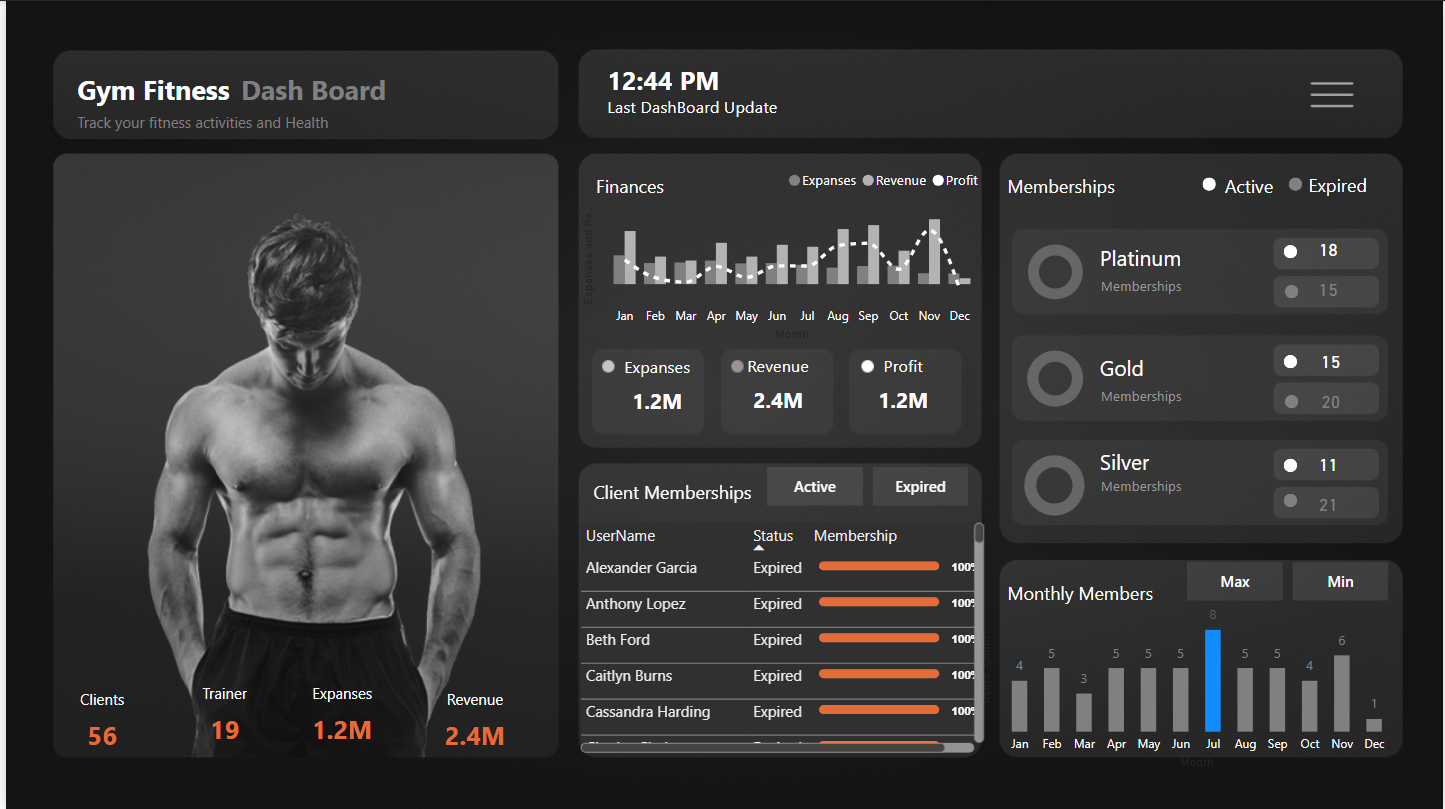

Layout of this report page (visuals, bound fields, positions):
{"tool":"powerbi","page":{"name":"OverAll","canvas":[1280,720],"ordinal":0},"visuals":[{"type":"cardVisual","fields":{"Data":["_Measures.Users_Count"]},"box":[30.7,595.1,109.2,79.8],"z":0},{"type":"cardVisual","fields":{"Data":["Count(Users.Trainer Name)"]},"box":[139.9,590.2,109.2,79.8],"z":1000},{"type":"cardVisual","fields":{"Data":["_Measures.Expanses"]},"box":[245.4,590.2,109.2,79.8],"z":2000},{"type":"cardVisual","fields":{"Data":["_Measures.Revenue"]},"box":[354.6,595.1,125.2,79.8],"z":3000},{"type":"cardVisual","fields":{"Data":["_Measures.Expanses"]},"box":[525.5,298.2,109.8,79.6],"z":4000},{"type":"cardVisual","fields":{"Data":["_Measures.Revenue"]},"box":[625.7,297.8,124.9,79.6],"z":5000},{"type":"cardVisual","fields":{"Data":["_Measures.Profit"]},"box":[736.9,297.8,124.9,79.6],"z":6000},{"type":"lineClusteredColumnComboChart","fields":{"Y":["_Measures.Expanses","_Measures.Revenue"],"Y2":["_Measures.Profit"],"Category":["Calender.Month"]},"box":[507.7,140,367.8,167.4],"z":7000},{"type":"shape","box":[525.6,140,181.1,46.7],"z":8000},{"type":"clusteredColumnChart","fields":{"Y":["_Measures.Users_Count"],"Category":["Calender.Month"]},"box":[861.3,527.1,380.9,162.2],"z":9000},{"type":"shape","box":[891.9,503.6,181.1,46.7],"z":10000},{"type":"advancedSlicerVisual","fields":{"Values":["Min_Max_Switch.type"]},"box":[1046.8,493.9,190.4,45.5],"z":11000},{"type":"tableEx","fields":{"Values":["Users.UserName","Users.Status","_Measures.SVG_BarChart1"]},"box":[505.5,460.1,370.6,214.7],"z":12000},{"type":"advancedSlicerVisual","fields":{"Values":["Users.Status"]},"box":[672.5,410,190,45],"z":13000},{"type":"shape","box":[523.8,413.8,182.5,46.2],"z":14000},{"type":"shape","box":[974.5,204.9,181.6,46.6],"z":15000},{"type":"shape","box":[974.5,303.1,181.6,46.6],"z":16000},{"type":"shape","box":[973.5,385.8,181.6,46.6],"z":17000},{"type":"shape","box":[975.6,230.6,155,46.6],"z":18000},{"type":"shape","box":[975.6,328.8,155,46.6],"z":19000},{"type":"shape","box":[975.6,408.5,155,46.6],"z":20000},{"type":"donutChart","fields":{"Y":["_Measures.User_Silver"],"Category":["Users.Status"]},"box":[893.3,392.6,82.2,77.3],"z":21000},{"type":"donutChart","fields":{"Y":["_Measures.User_Gold"],"Category":["Users.Status"]},"box":[898.2,296.9,72.4,78.5],"z":22000},{"type":"donutChart","fields":{"Y":["_Measures.User_Platinum"],"Category":["Users.Status"]},"box":[895.7,206.1,77.3,71.2],"z":23000},{"type":"card","fields":{"Values":["_Measures.Platinum_Active"]},"box":[1131.1,208.3,93.3,29.4],"z":24000},{"type":"card","fields":{"Values":["_Measures.Platinum_Expire"]},"box":[1131.1,243.9,93.3,29.4],"z":25000},{"type":"card","fields":{"Values":["_Measures.Gold_Active"]},"box":[1133.2,306.8,93.3,29.4],"z":26000},{"type":"card","fields":{"Values":["_Measures.Gold_Expired"]},"box":[1133.2,342.4,93.3,29.4],"z":27000},{"type":"card","fields":{"Values":["_Measures.Silver_Active"]},"box":[1131.4,399.4,93.3,29.4],"z":28000},{"type":"card","fields":{"Values":["_Measures.Silver_Expired"]},"box":[1131.4,434.9,93.3,29.4],"z":29000},{"type":"shape","box":[1137.7,217.5,12.3,12.3],"z":30000},{"type":"shape","box":[1137.7,314.5,12.3,12.3],"z":31000},{"type":"shape","box":[1137.7,407.9,12.3,12.3],"z":32000},{"type":"shape","box":[1139,253.1,12.3,12.3],"z":33000},{"type":"shape","box":[1139,350.2,12.3,12.3],"z":34000},{"type":"shape","box":[1137.7,438.6,12.3,12.3],"z":35000},{"type":"shape","box":[892,140.1,180.6,46.7],"z":36000},{"type":"shape","box":[1065.2,157.3,12.3,12.3],"z":37000},{"type":"shape","box":[1142.6,157.3,12.3,12.3],"z":38000},{"type":"shape","box":[1084.9,140.1,181.8,46.7],"z":39000},{"type":"shape","box":[1159.8,141.3,86,44.2],"z":40000},{"type":"shape","box":[63.8,55.2,181.6,46.6],"z":41000},{"type":"shape","box":[209.8,55.2,180.4,46.6],"z":42000},{"type":"shape","box":[63.8,84.7,308,46.6],"z":43000},{"type":"image","box":[1130.4,55.3,104.4,57.7],"z":44000},{"type":"shape","box":[535,46.6,180.4,46.6],"z":45000},{"type":"shape","box":[535,69.9,180.4,46.6],"z":46000}]}

Visuals, with their boxes in screenshot pixels (x1, y1, x2, y2), scaled from the page's 1280x720 canvas onto the 1445x809 screenshot:
cardVisual - _Measures.Users_Count: 35/669/158/758
cardVisual - Count(Users.Trainer Name): 158/663/281/753
cardVisual - _Measures.Expanses: 277/663/400/753
cardVisual - _Measures.Revenue: 400/669/542/758
cardVisual - _Measures.Expanses: 593/335/717/425
cardVisual - _Measures.Revenue: 706/335/847/424
cardVisual - _Measures.Profit: 832/335/973/424
lineClusteredColumnComboChart - _Measures.Expanses x _Measures.Revenue: 573/157/988/345
shape: 593/157/798/210
clusteredColumnChart - _Measures.Users_Count x Calender.Month: 972/592/1402/775
shape: 1007/566/1211/618
advancedSlicerVisual - Min_Max_Switch.type: 1182/555/1397/606
tableEx - Users.UserName x Users.Status: 571/517/989/758
advancedSlicerVisual - Users.Status: 759/461/974/511
shape: 591/465/797/517
shape: 1100/230/1305/283
shape: 1100/341/1305/393
shape: 1099/433/1304/486
shape: 1101/259/1276/311
shape: 1101/369/1276/422
shape: 1101/459/1276/511
donutChart - _Measures.User_Silver x Users.Status: 1008/441/1101/528
donutChart - _Measures.User_Gold x Users.Status: 1014/334/1096/422
donutChart - _Measures.User_Platinum x Users.Status: 1011/232/1098/312
card - _Measures.Platinum_Active: 1277/234/1382/267
card - _Measures.Platinum_Expire: 1277/274/1382/307
card - _Measures.Gold_Active: 1279/345/1385/378
card - _Measures.Gold_Expired: 1279/385/1385/418
card - _Measures.Silver_Active: 1277/449/1383/482
card - _Measures.Silver_Expired: 1277/489/1383/522
shape: 1284/244/1298/258
shape: 1284/353/1298/367
shape: 1284/458/1298/472
shape: 1286/284/1300/298
shape: 1286/393/1300/407
shape: 1284/493/1298/507
shape: 1007/157/1211/210
shape: 1203/177/1216/191
shape: 1290/177/1304/191
shape: 1225/157/1430/210
shape: 1309/159/1406/208
shape: 72/62/277/114
shape: 237/62/440/114
shape: 72/95/420/148
image: 1276/62/1394/127
shape: 604/52/808/105
shape: 604/79/808/131
